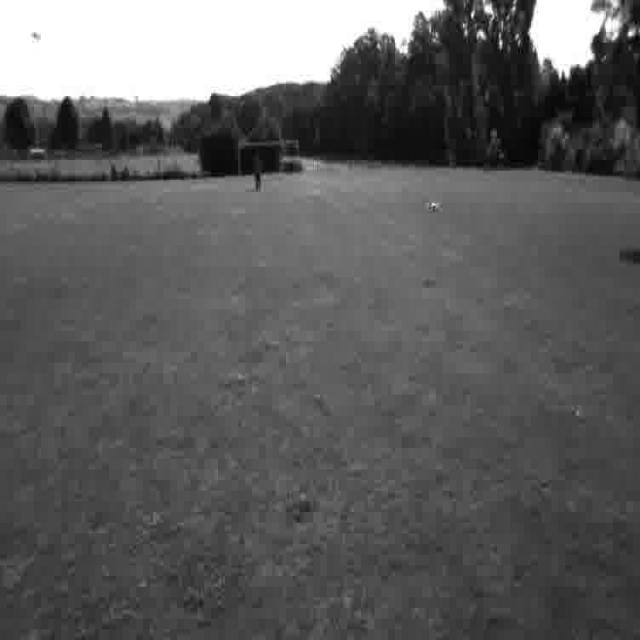drone: (420, 196, 450, 220)
